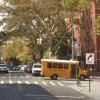Bus: (39, 55, 82, 83)
